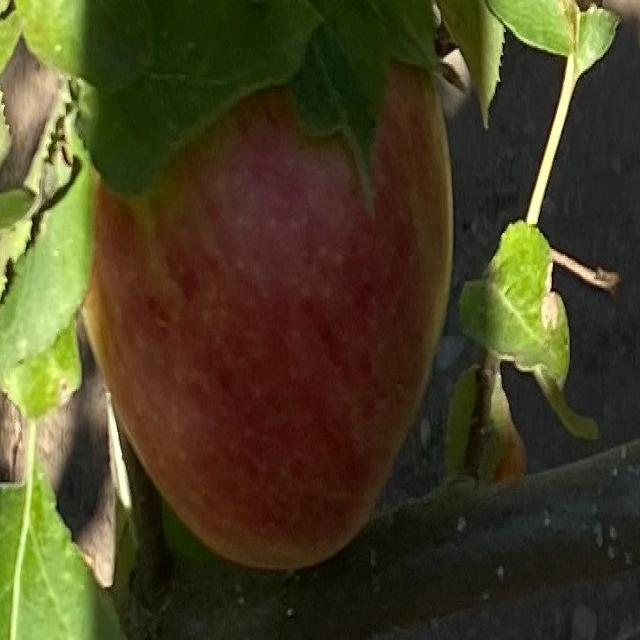Apples: (84, 68, 455, 566)
